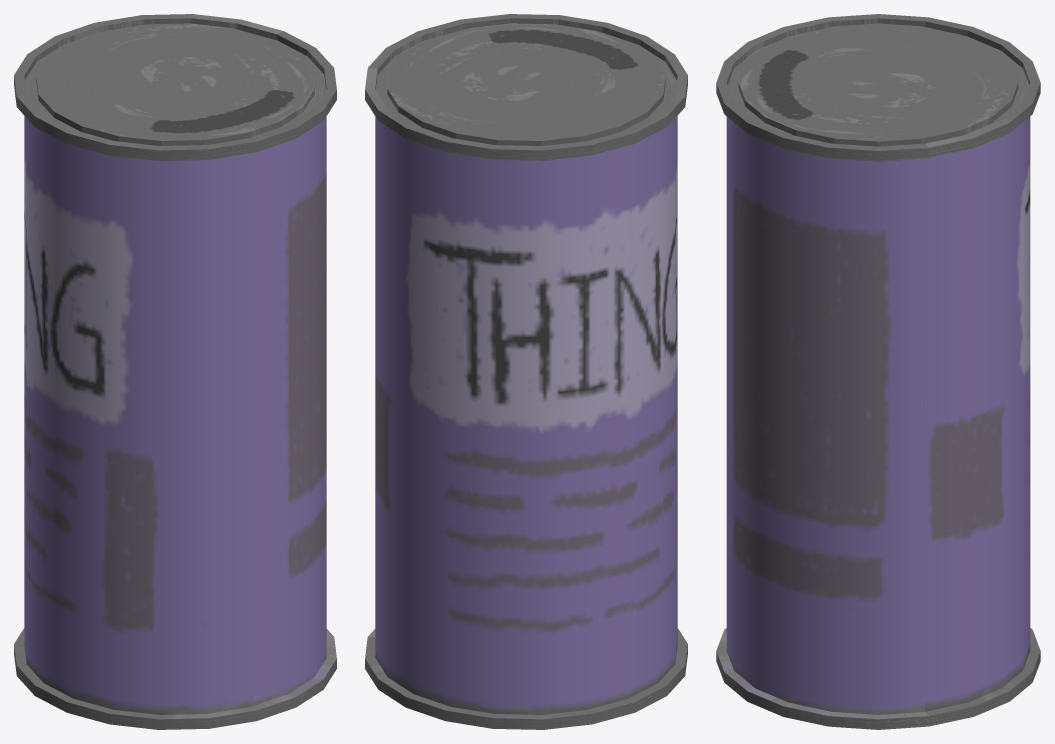
The model's file is TexturedCan3Real.fbx.
3 views of the same model, side by side, from view 1: azimuth 30°, elevation 25°; view 2: azimuth 150°, elevation 25°; view 3: azimuth 270°, elevation 25° (orthographic).
Parts seen in each view (by area): view 1: pCylinder1; view 2: pCylinder1; view 3: pCylinder1.
Part boxes in pixels (x1,y1,x2,y2): pCylinder1: (14,14,336,729); pCylinder1: (365,14,687,729); pCylinder1: (716,14,1040,729).
Size of the model in its own units: 2.13 by 4.2 by 2.13.
1 material, 1 textured.
